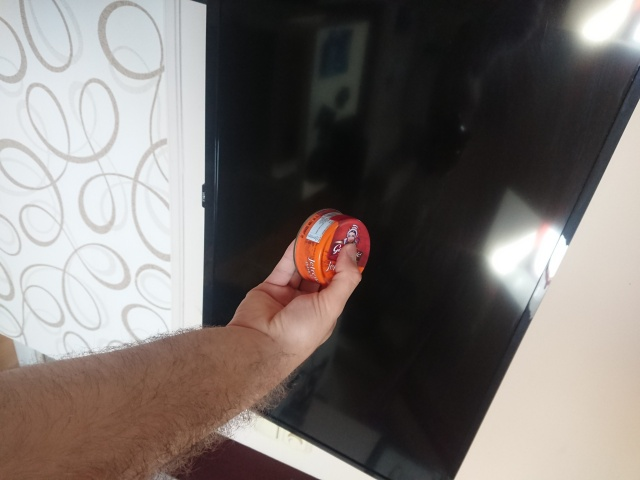Gavrilovic Pork Liver Pate 100g: (290, 205, 372, 290)
